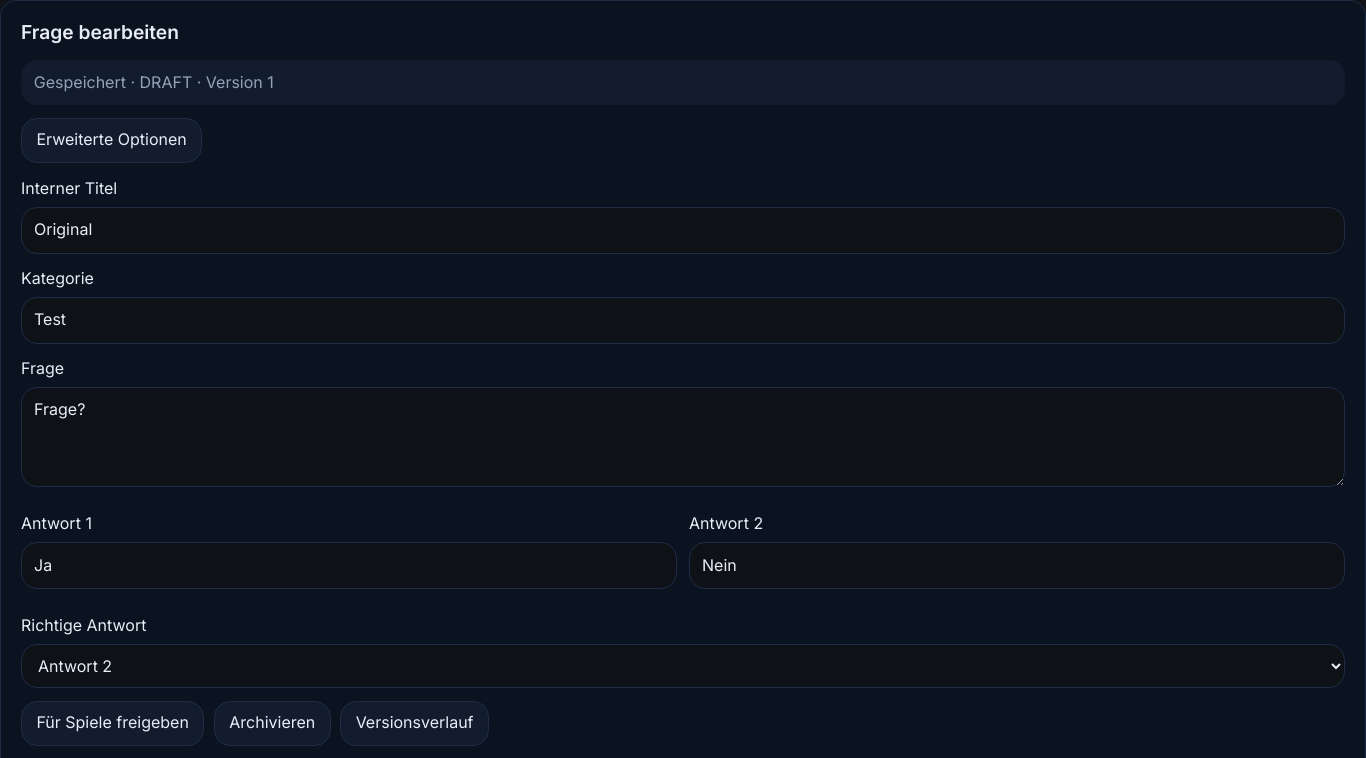
Test case: resolves a conflict only against the explicitly reviewed latest revision
Type " Mein Text" into the text box labelled "Frage" at (683, 437), box [21, 387, 1345, 487]
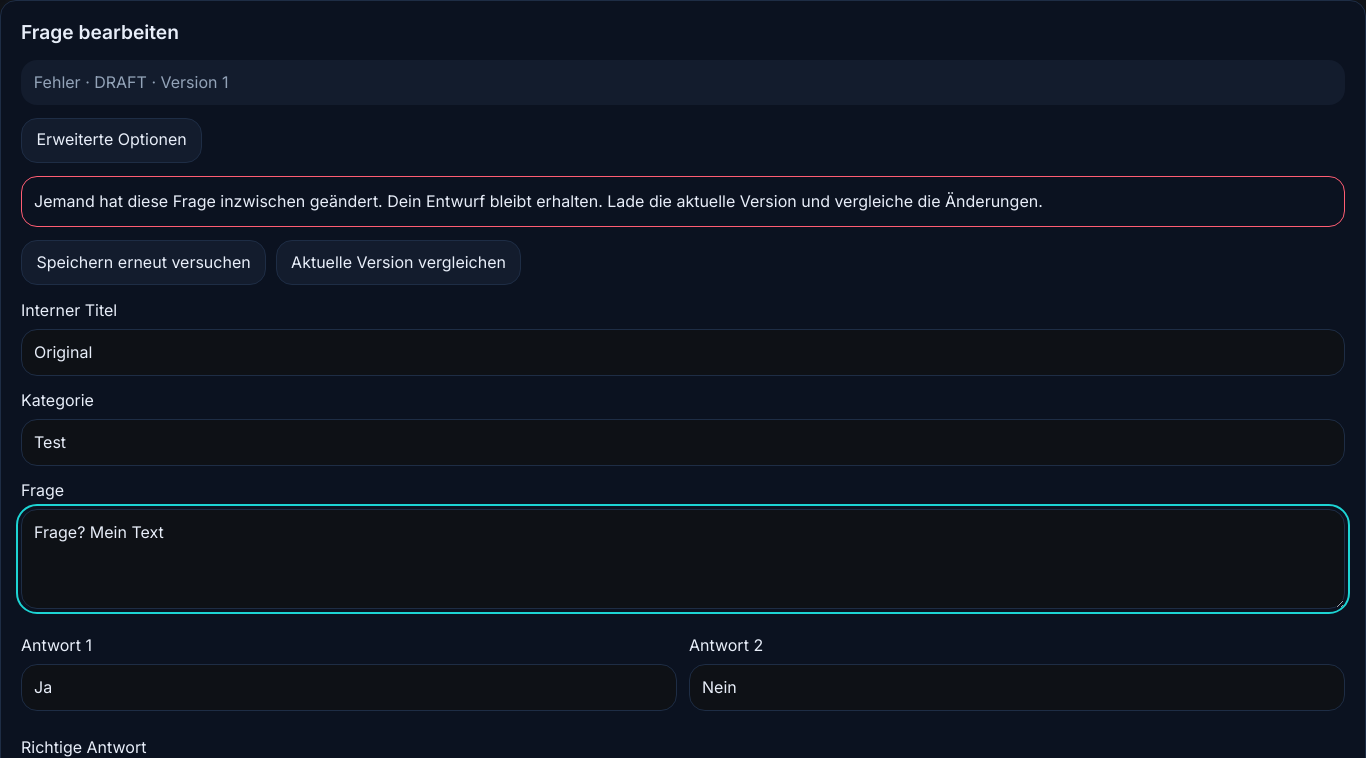
Expected: the 2nd message is shown, [21, 176, 1345, 227]
Click the button "Aktuelle Version vergleichen" at (399, 263), box [276, 240, 521, 285]
(page scrolled)
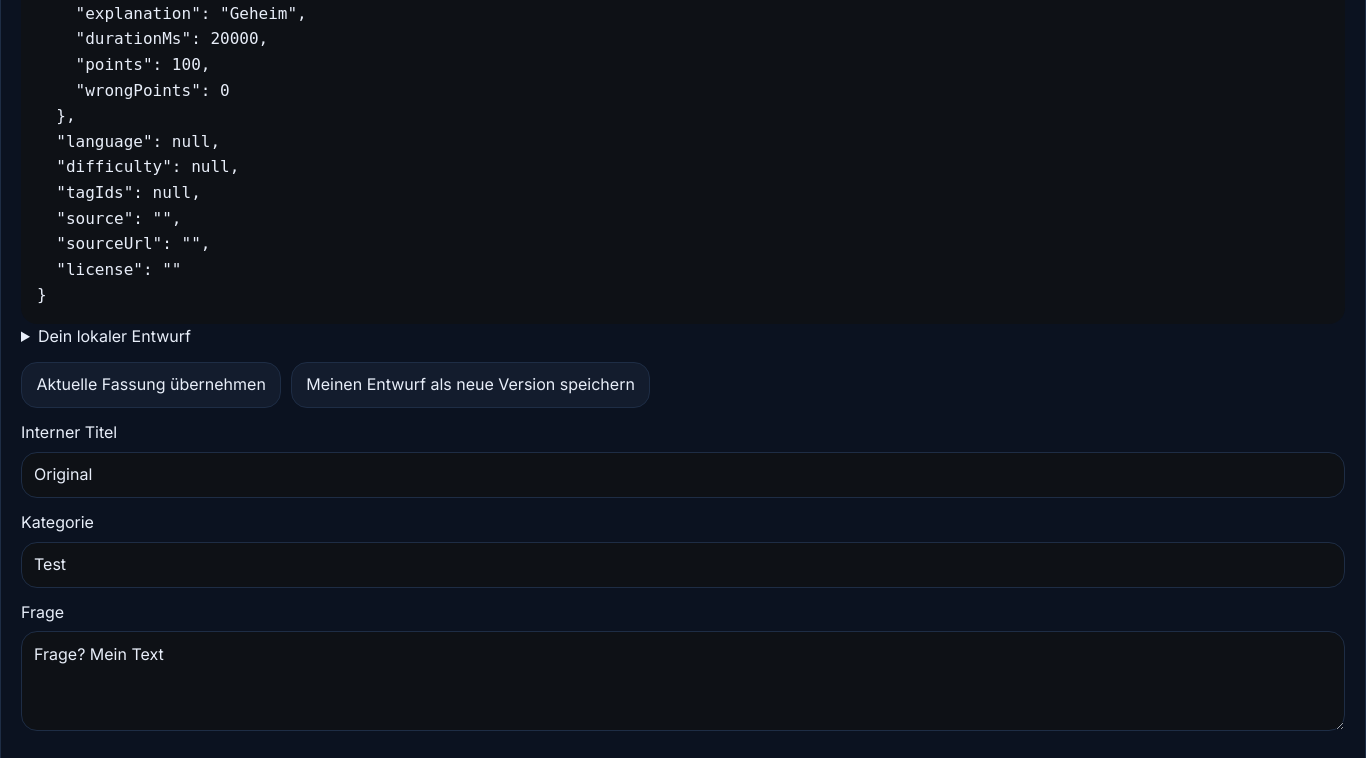
Click the button "Meinen Entwurf als neue Version speichern" at (471, 385), box [291, 362, 650, 408]
(page scrolled)
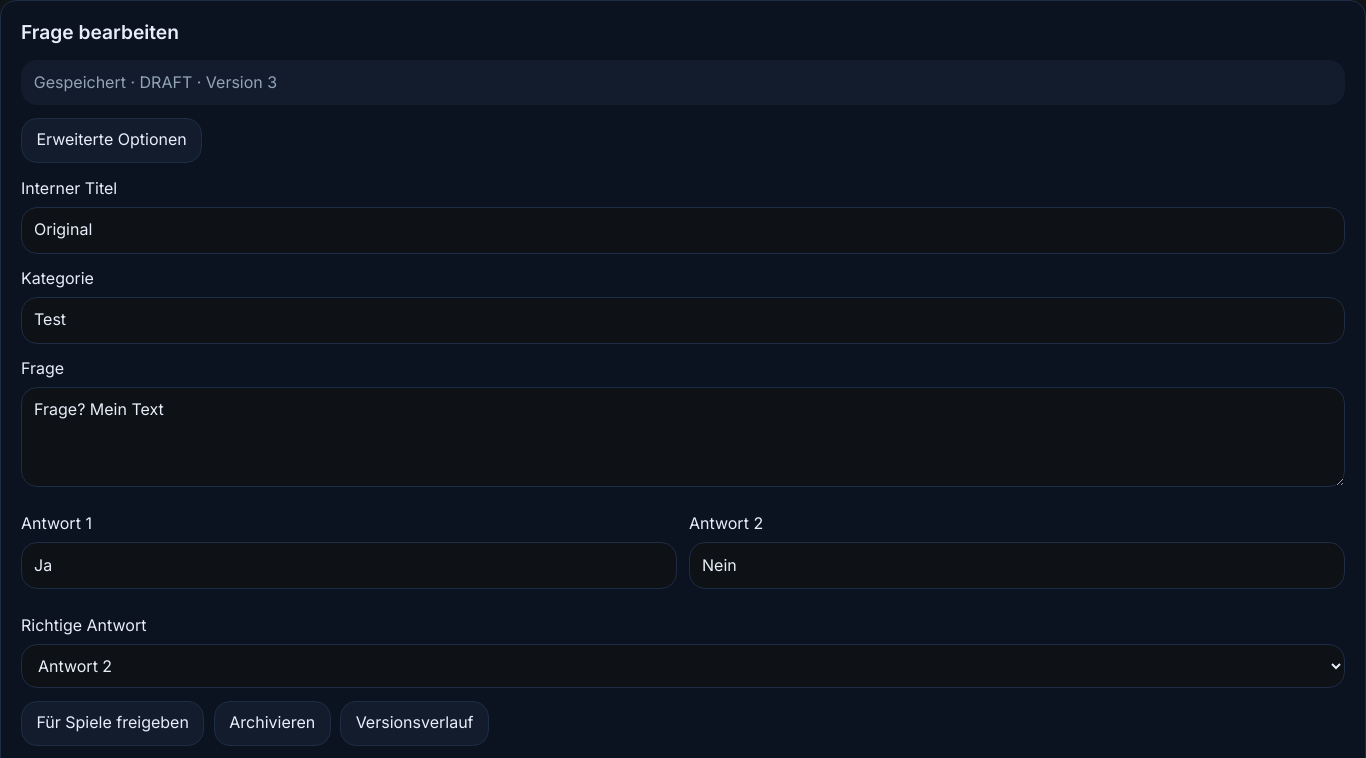
Expected: the message shows "Version 3", [192, 72, 277, 92]
